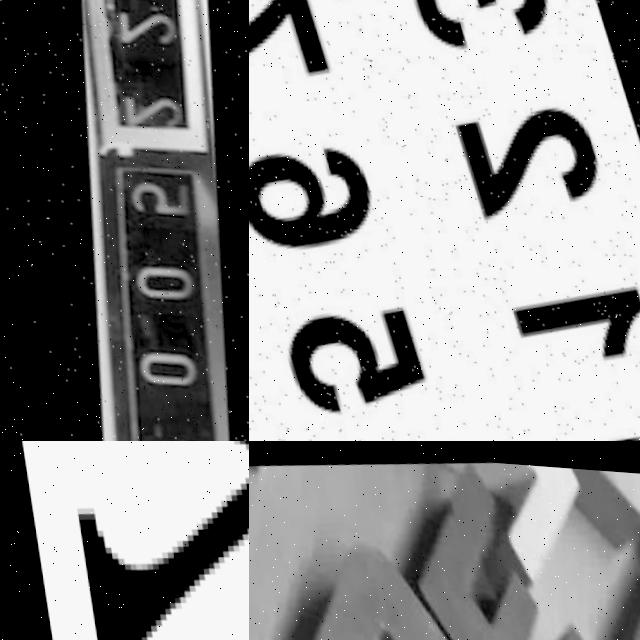0: (131, 337, 199, 392), (544, 403, 640, 441), (129, 254, 195, 305)
1: (496, 259, 640, 377)
2: (443, 77, 613, 226), (118, 84, 189, 133), (113, 0, 181, 49)
3: (402, 0, 562, 59)
5: (268, 282, 431, 425), (121, 166, 192, 221)
6: (249, 119, 386, 265)
7: (249, 0, 340, 103), (133, 426, 206, 441)
E: (387, 451, 629, 640)
J: (257, 505, 519, 640)
X: (15, 441, 249, 640)
